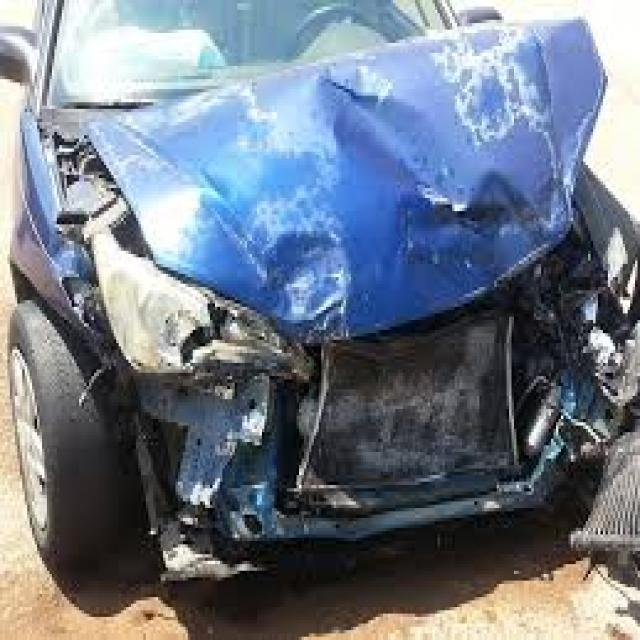accident: (10, 42, 620, 592)
